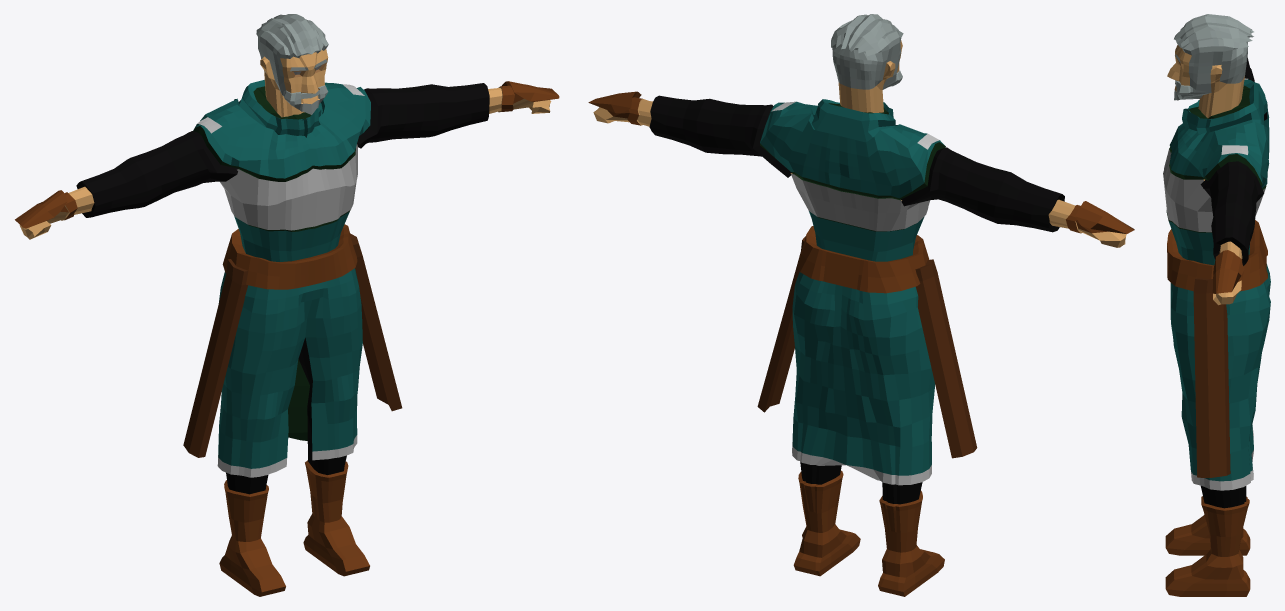
The model's file is Map1Enemy1.fbx.
3 renders of one model, left to right at view 1: azimuth 30°, elevation 25°; view 2: azimuth 150°, elevation 25°; view 3: azimuth 270°, elevation 25°, orthographic.
Visible parts, largest first — view 1: Plane; view 2: Plane; view 3: Plane.
Part boxes in pixels (left/top/right/bottom): Plane: left=15, top=14, right=559, bottom=596; Plane: left=588, top=14, right=1134, bottom=596; Plane: left=1163, top=14, right=1270, bottom=596.
Bounding box in the file's own units: 200 × 197 × 34.73.
